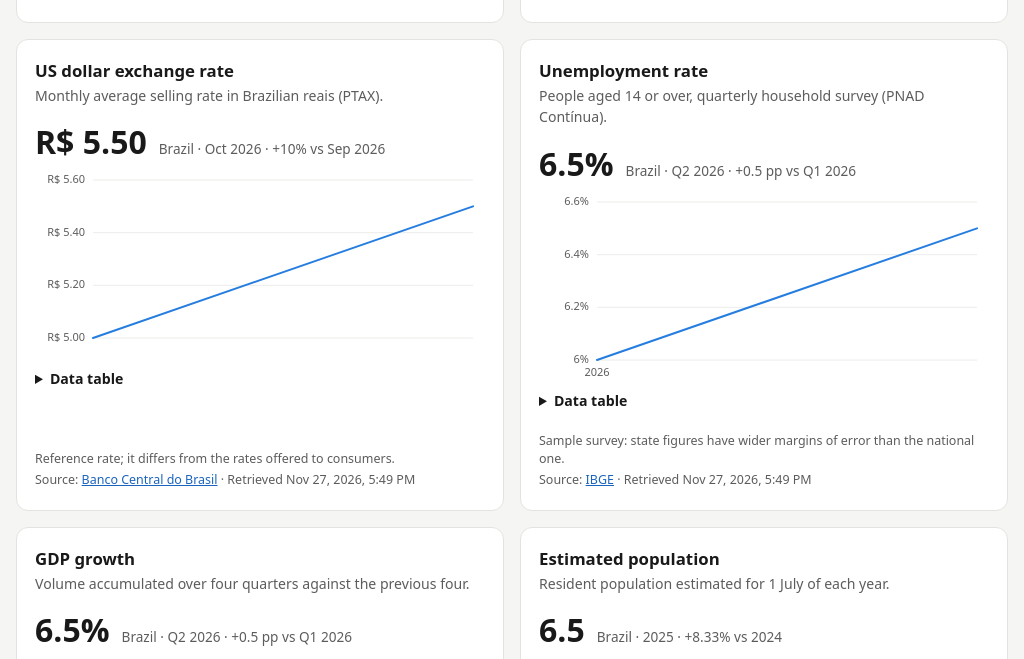
Test: App › offers the same numbers as a table
This screenshot has width=1024, height=659.
(page scrolled)
Click the heading "Data table" below "R$ 5.00".
click(87, 379)  # box x1=50 y1=369 x2=123 y2=388
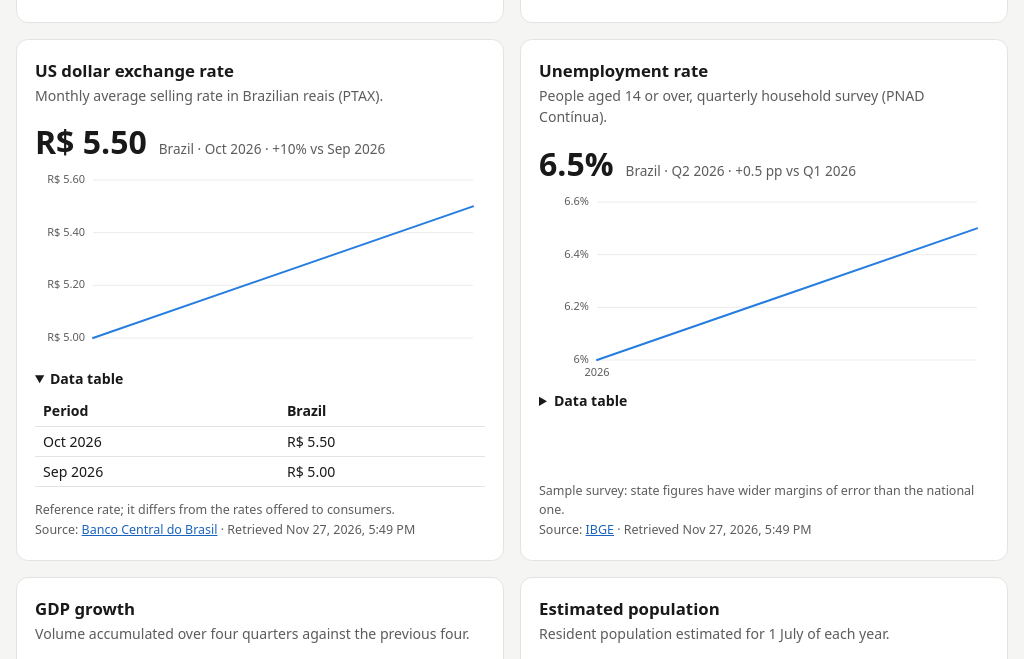
Now the rows read "PeriodBrazil", "Oct 2026R$ 5.50", "Sep 2026R$ 5.00", in this order, box x1=35 y1=396 x2=485 y2=426; x1=35 y1=426 x2=485 y2=456; x1=35 y1=456 x2=485 y2=486
